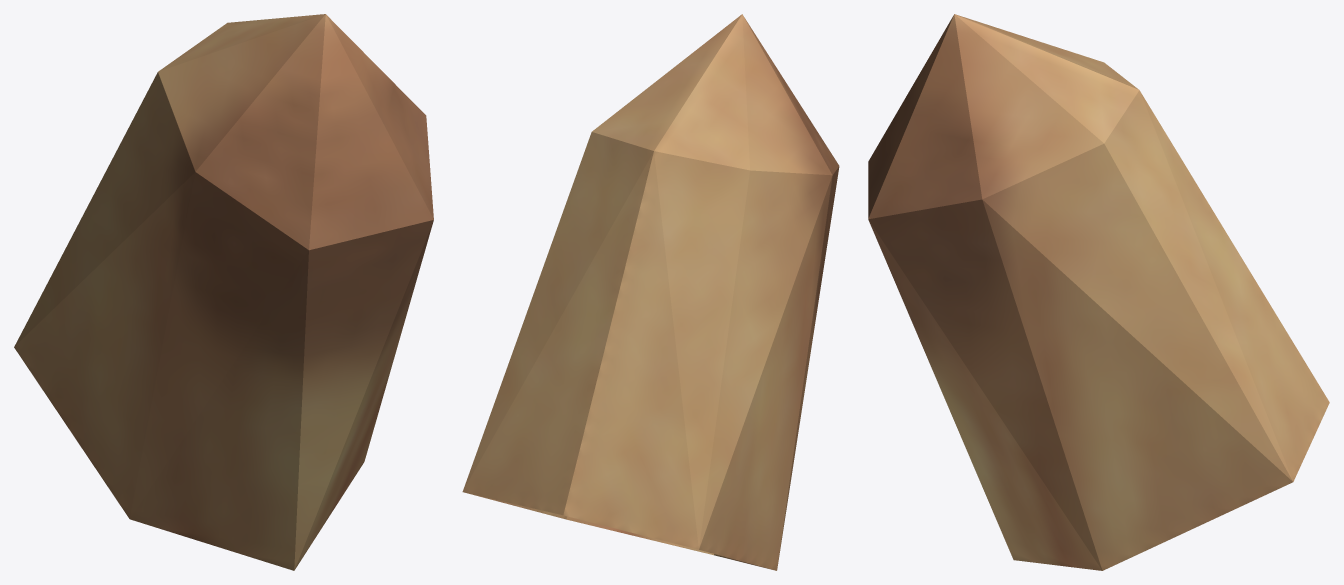
The model's file is vMesh_012_root.fbx.
3 views of the same model, side by side, from view 1: azimuth 30°, elevation 25°; view 2: azimuth 150°, elevation 25°; view 3: azimuth 270°, elevation 25° (orthographic). The views are drawn at different scales.
Parts seen in each view (by area): view 1: Mesh_012_Cube_005; view 2: Mesh_012_Cube_005; view 3: Mesh_012_Cube_005.
Part boxes in pixels (bbox=[...]): Mesh_012_Cube_005: bbox=[14, 14, 433, 570]; Mesh_012_Cube_005: bbox=[462, 14, 839, 570]; Mesh_012_Cube_005: bbox=[868, 14, 1329, 570].
Size of the model in its own units: 0.3349 by 0.7048 by 0.5399.
